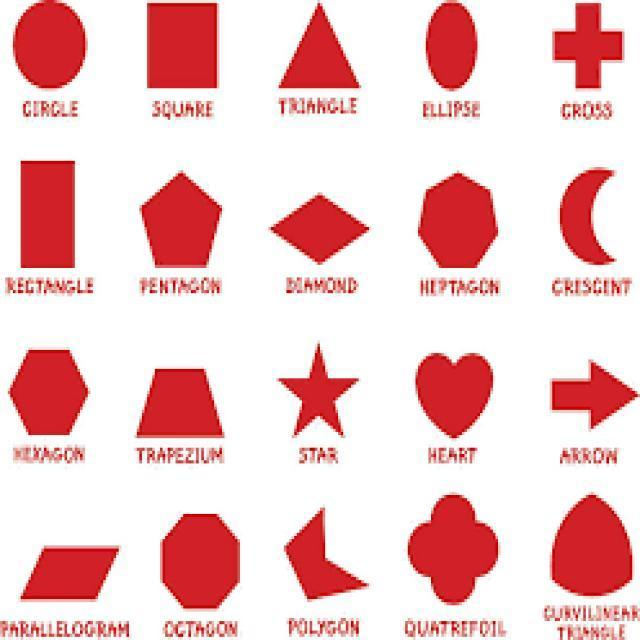circle: (3, 0, 102, 131), (416, 0, 492, 140)
cross: (543, 0, 637, 126)
square: (132, 0, 237, 128), (13, 155, 91, 308)
